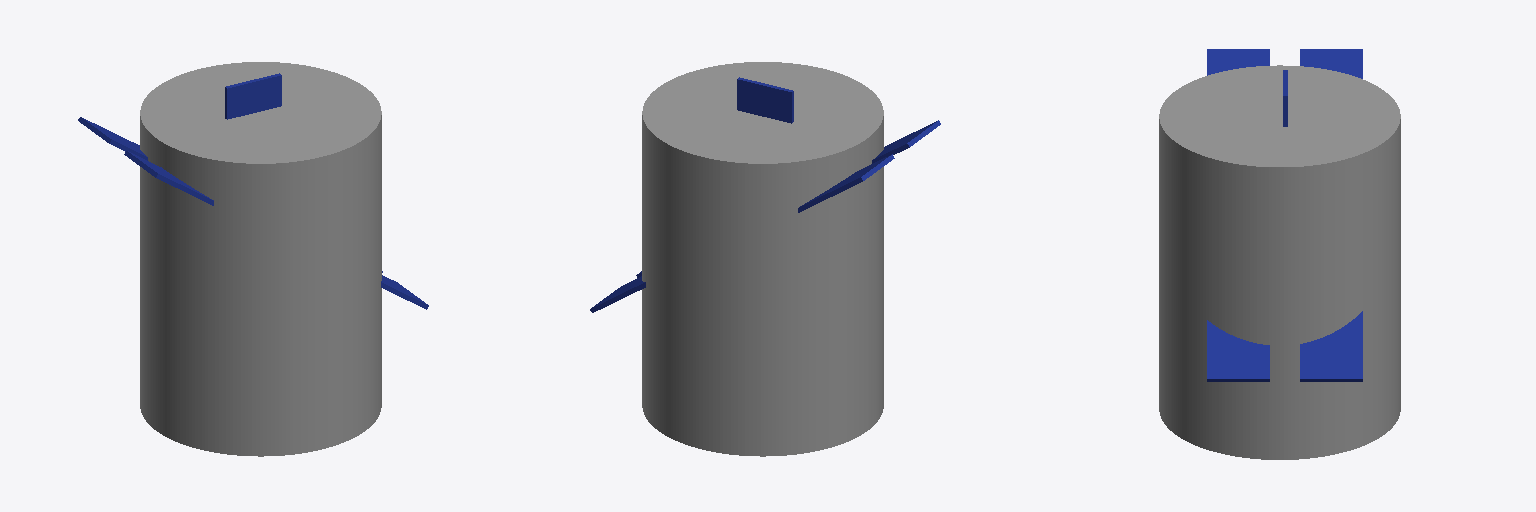
Rendered from phantom_bars.obj.
3 renders of one model, left to right at view 1: azimuth 30°, elevation 25°; view 2: azimuth 150°, elevation 25°; view 3: azimuth 270°, elevation 25°, orthographic.
Visible parts, largest first — view 1: Circle.002, Cube.001_Cube.011, Cube.000_Cube.010, Cube.005_Cube.006; view 2: Circle.002, Cube.001_Cube.011, Cube.005_Cube.006, Cube.000_Cube.010; view 3: Circle.002, Cube.005_Cube.006, Cube.000_Cube.010.
Part boxes in pixels (x1,y1,x2,y2): Circle.002: (140, 62, 381, 456); Cube.001_Cube.011: (225, 73, 281, 119); Cube.000_Cube.010: (124, 151, 428, 309); Cube.005_Cube.006: (78, 117, 382, 272); Circle.002: (642, 62, 883, 456); Cube.001_Cube.011: (737, 77, 793, 123); Cube.005_Cube.006: (590, 154, 894, 312); Cube.000_Cube.010: (636, 120, 940, 277); Circle.002: (1159, 65, 1400, 459); Cube.005_Cube.006: (1300, 49, 1362, 381); Cube.000_Cube.010: (1207, 49, 1269, 381).
Bounding box in the file's own units: 2.62 × 3.17 × 2.